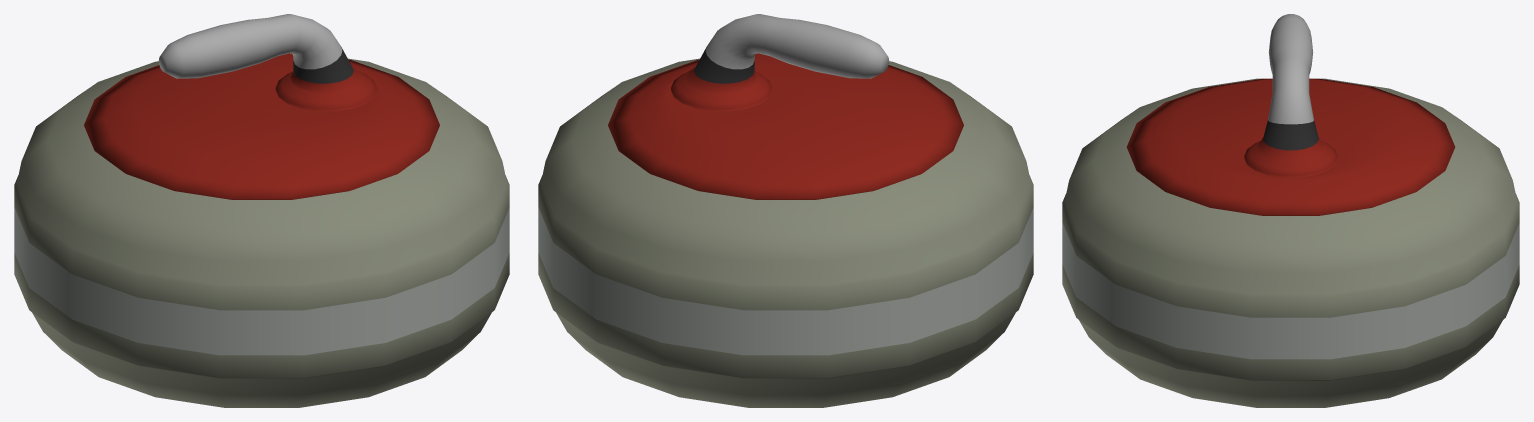
The model's file is curlingstone.fbx.
3 views of the same model, side by side, from view 1: azimuth 30°, elevation 25°; view 2: azimuth 150°, elevation 25°; view 3: azimuth 270°, elevation 25° (orthographic). The views are drawn at different scales.
Parts seen in each view (by area): view 1: curlingstone; view 2: curlingstone; view 3: curlingstone.
Part boxes in pixels (x1,y1,x2,y2): curlingstone: [14, 14, 509, 407]; curlingstone: [538, 14, 1033, 407]; curlingstone: [1062, 14, 1519, 407].
Bounding box in the file's own units: 1.12 × 0.7976 × 1.13.
